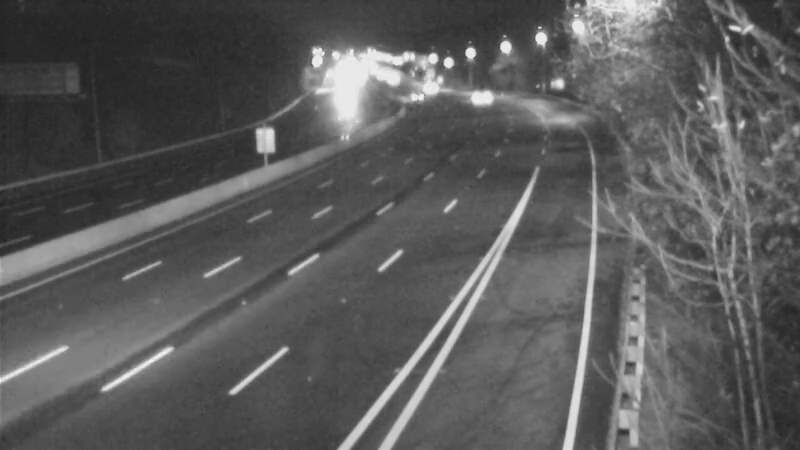vehicle: (403, 63, 453, 113), (394, 68, 444, 118), (446, 72, 496, 122)
